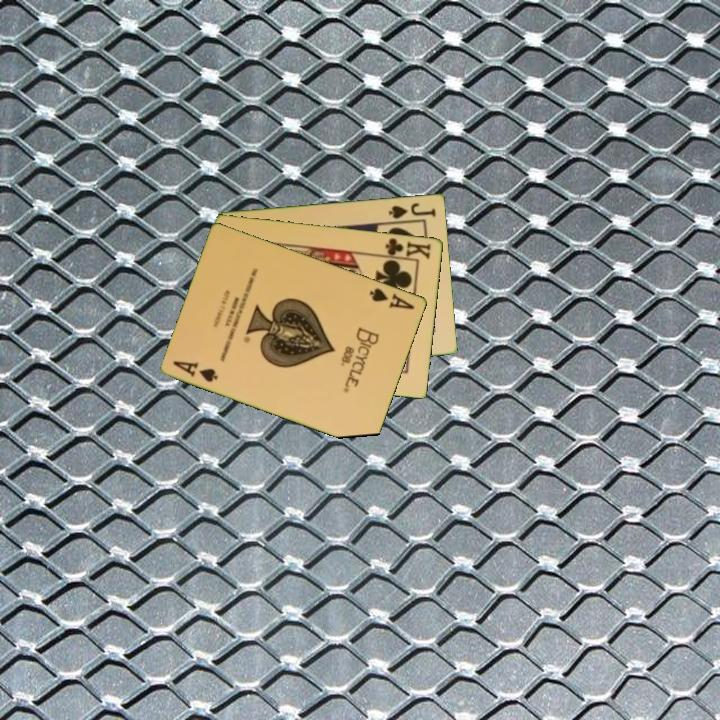As: (366, 284, 418, 312), (170, 357, 221, 385)
Js: (385, 199, 439, 221)
Kc: (379, 234, 434, 262)
